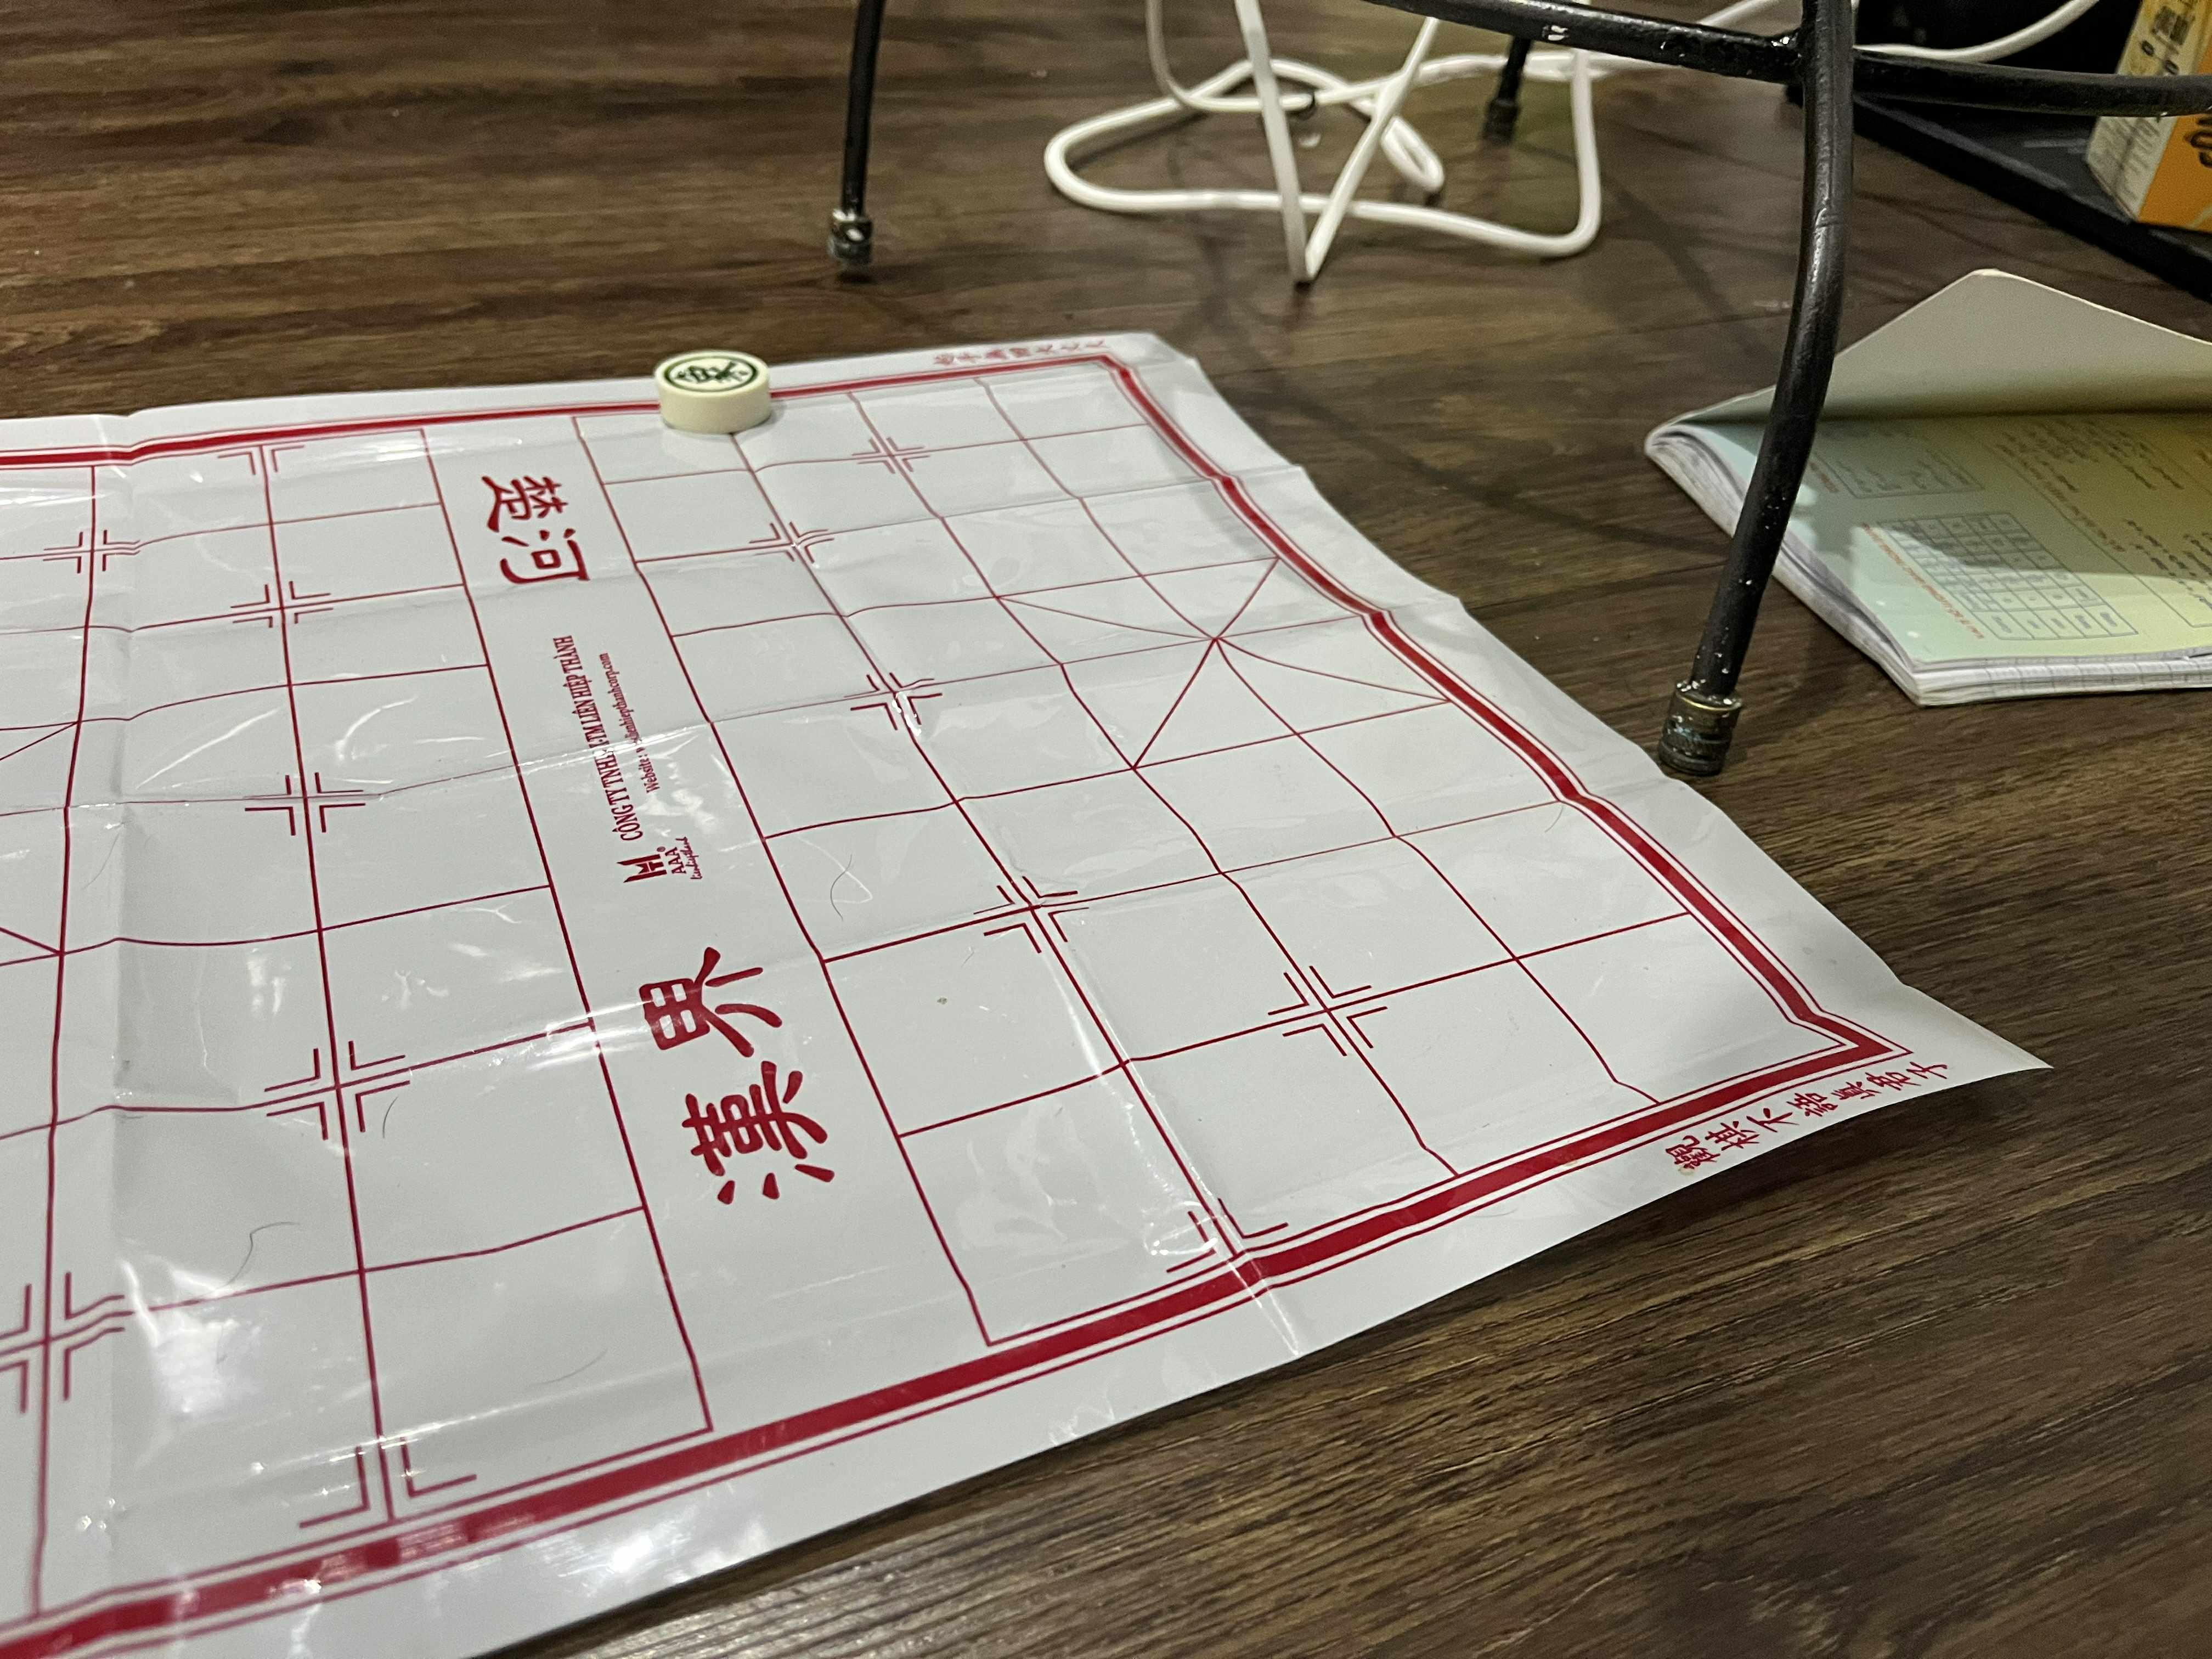black-elephant: (653, 349, 770, 396)
